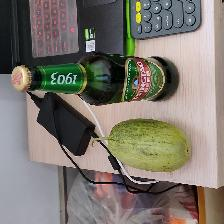gua: (101, 118, 196, 162)
